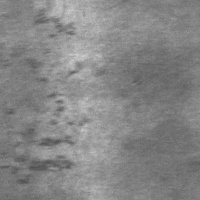rolled-in_scale: (3, 67, 83, 178), (42, 1, 83, 35)
